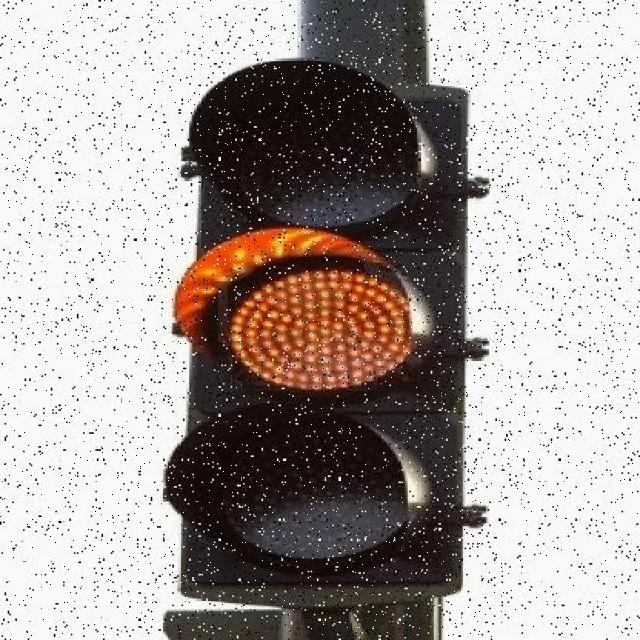yellow-light: (140, 45, 525, 613)
